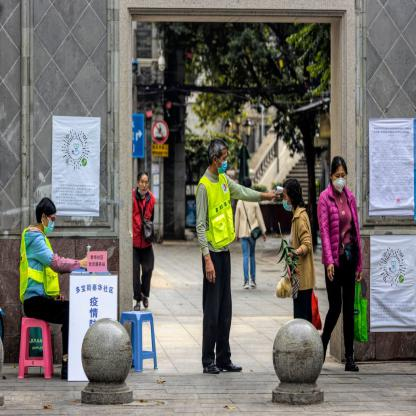Not_Wearing_Mask: (138, 177, 148, 193)
Wearing_Mask: (332, 170, 346, 191), (217, 152, 228, 174), (281, 190, 291, 211), (45, 214, 54, 234)
